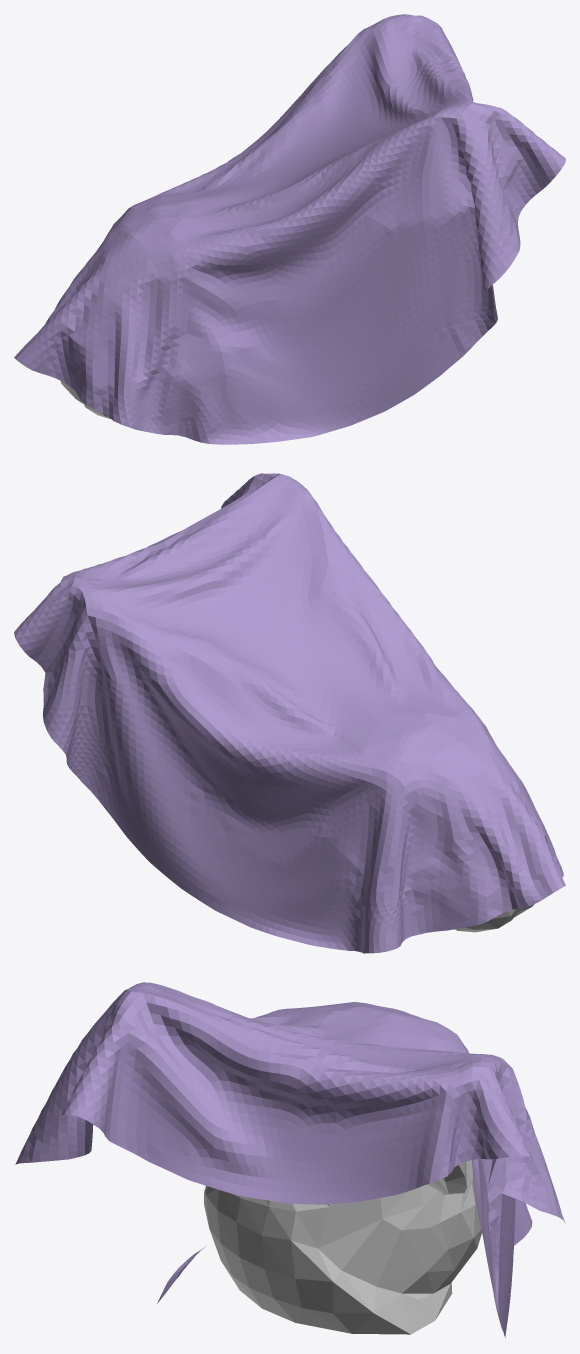
Rendered from level_2.glb.
3 views of the same model, one above another, from view 1: azimuth 30°, elevation 25°; view 2: azimuth 150°, elevation 25°; view 3: azimuth 270°, elevation 25° (orthographic). The views are drawn at different scales.
Parts seen in each view (by area): view 1: world; view 2: world, object.obj; view 3: world, object.obj.
Boxes of the visible parts, x1,y1,x2,y2 form: world: (14,14,565,444); world: (14,473,565,953); object.obj: (454,904,534,932); world: (15,982,565,1337); object.obj: (204,1160,481,1334).
Size of the model in its own units: 0.4746 by 0.2928 by 0.3595.
